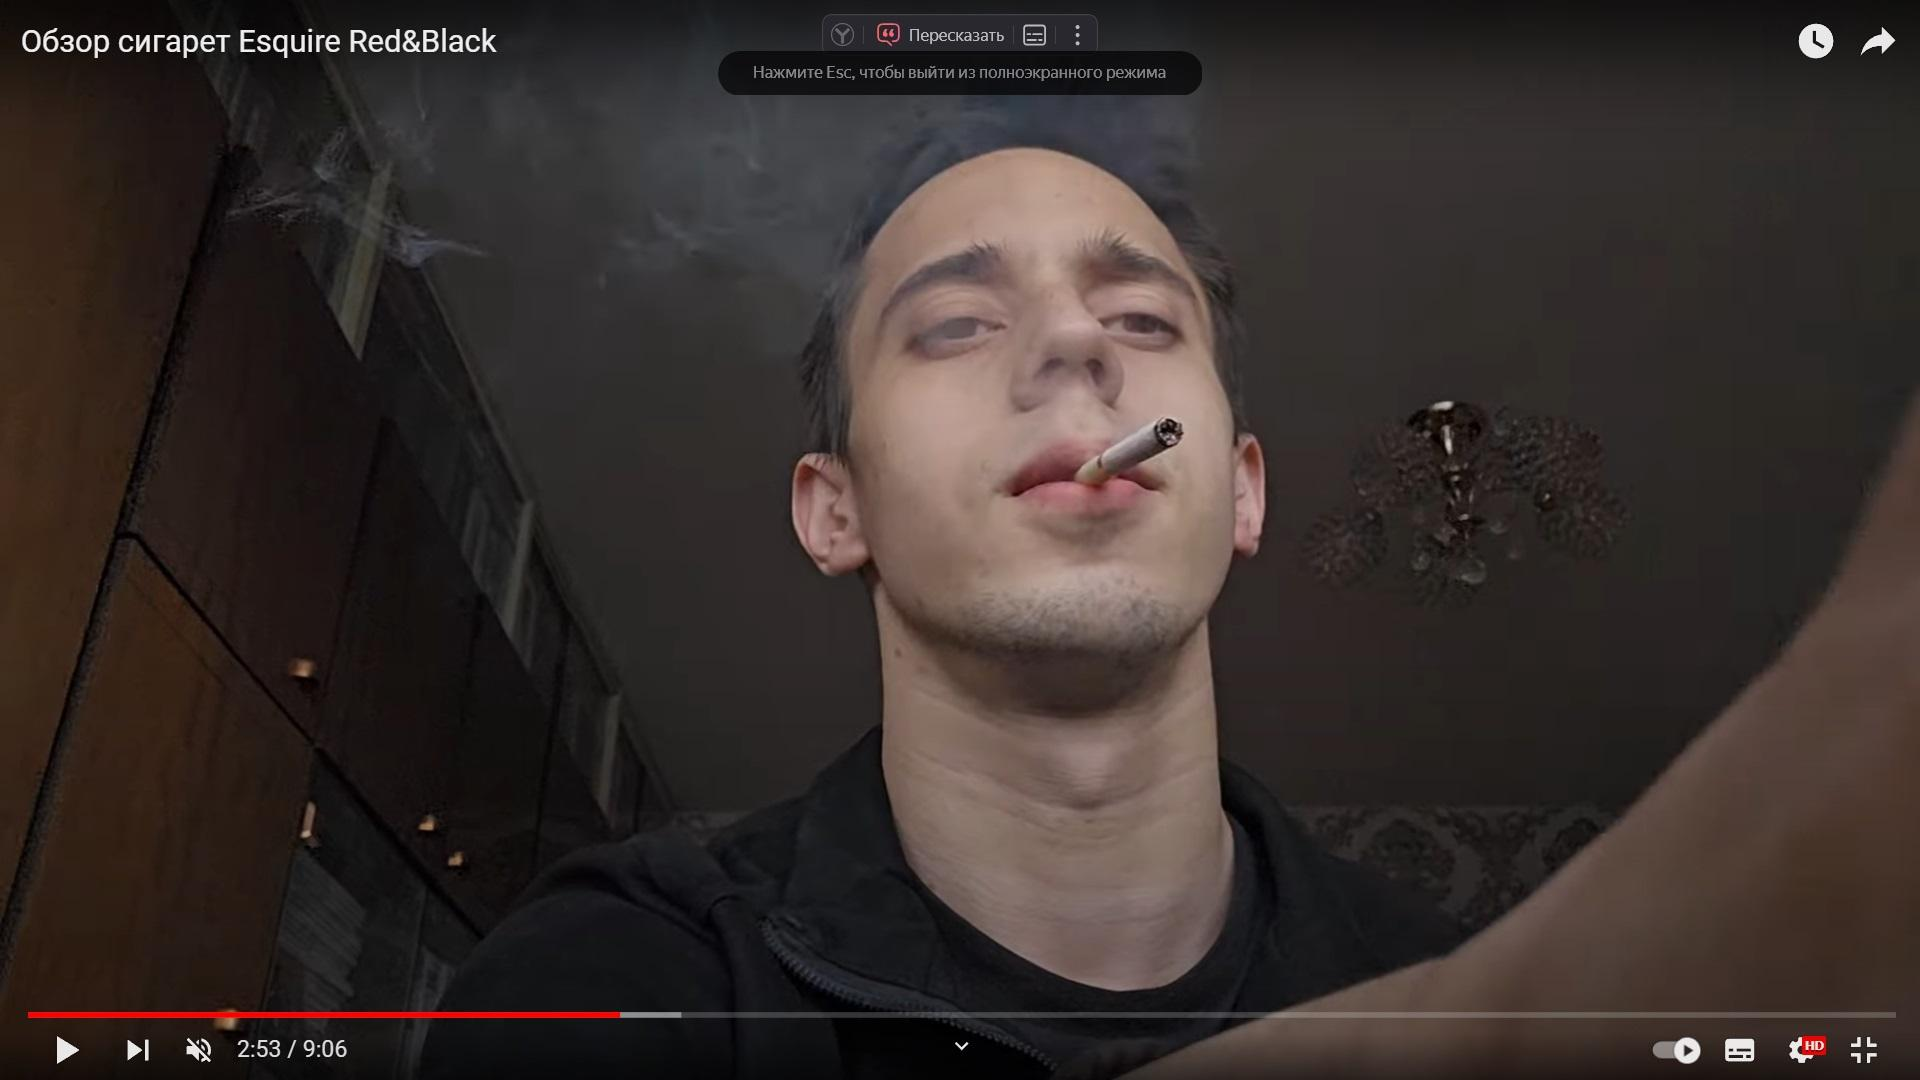cigarette: (1071, 417, 1184, 488)
